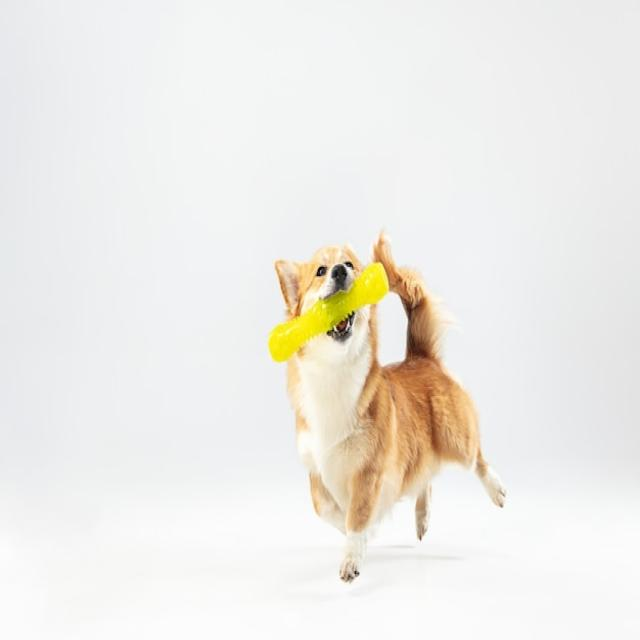Dog: (274, 226, 508, 582)
